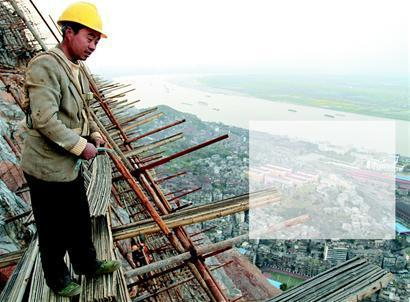helmet: (56, 0, 114, 58)
